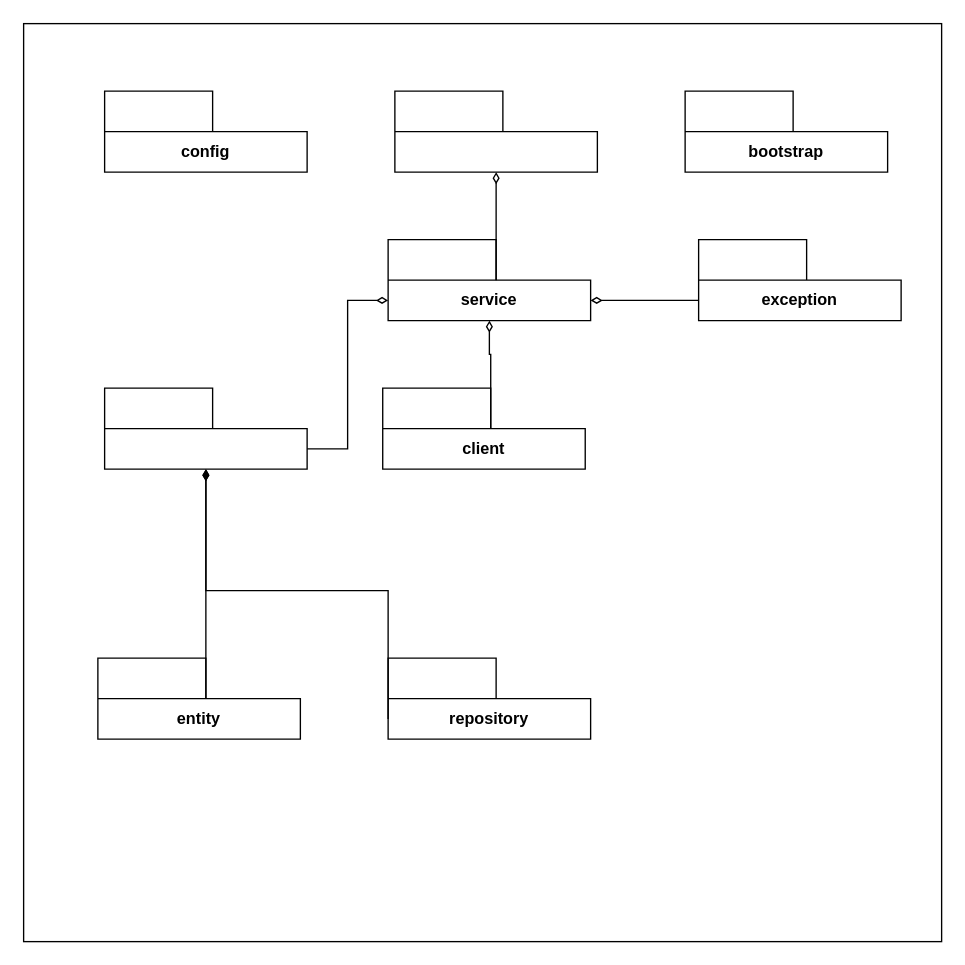
Some shapes in this 965 by 965 pixel diagram are drawn without their labels. The shapes that lost their labels are listed below. From the top down, each one's centre as x and y in pixels, then its label:
At [495,131]: "api".
At [205,428]: "persistence".
